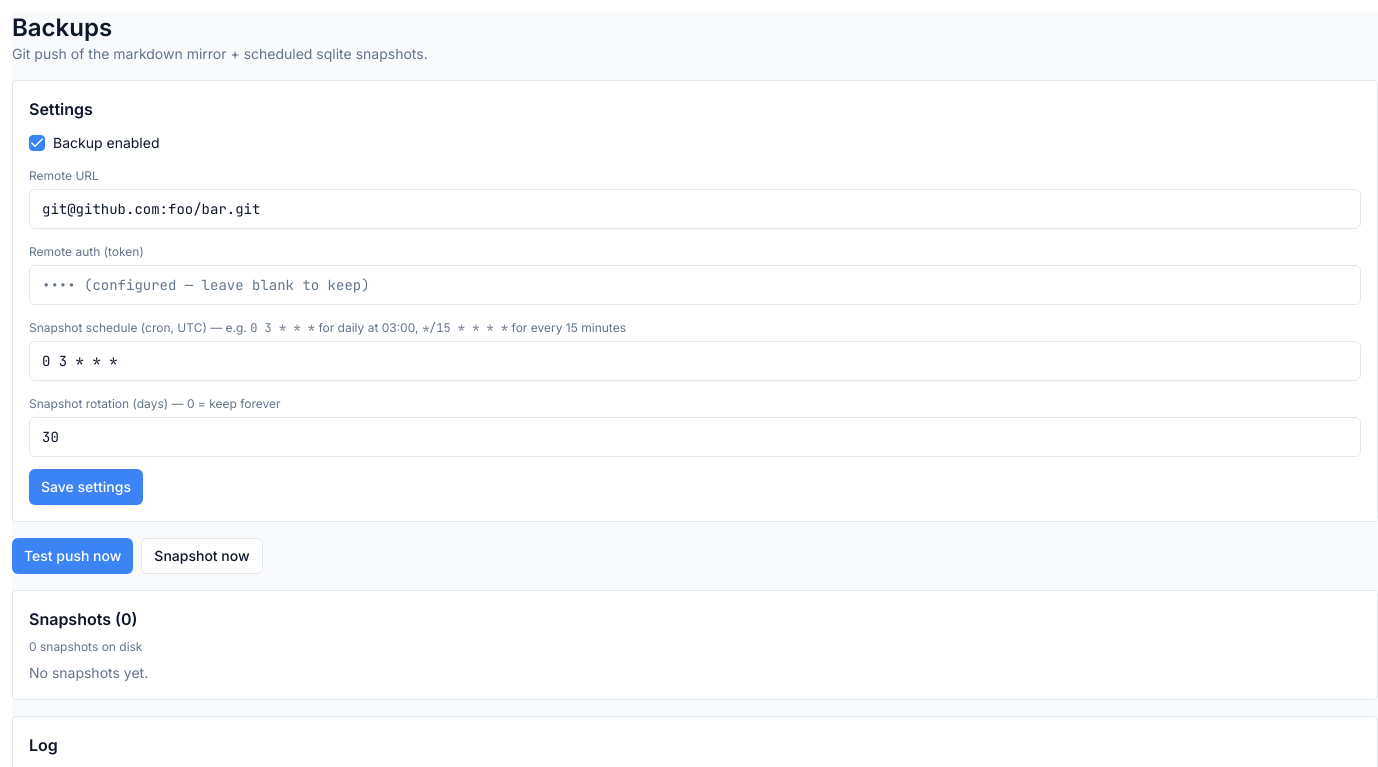
it: BackupsSettingsPage › Save settings posts a PUT and shows the success banner
Step 1. Click the button with test id "settings-save" → x=86, y=487, box [29,469,143,505]
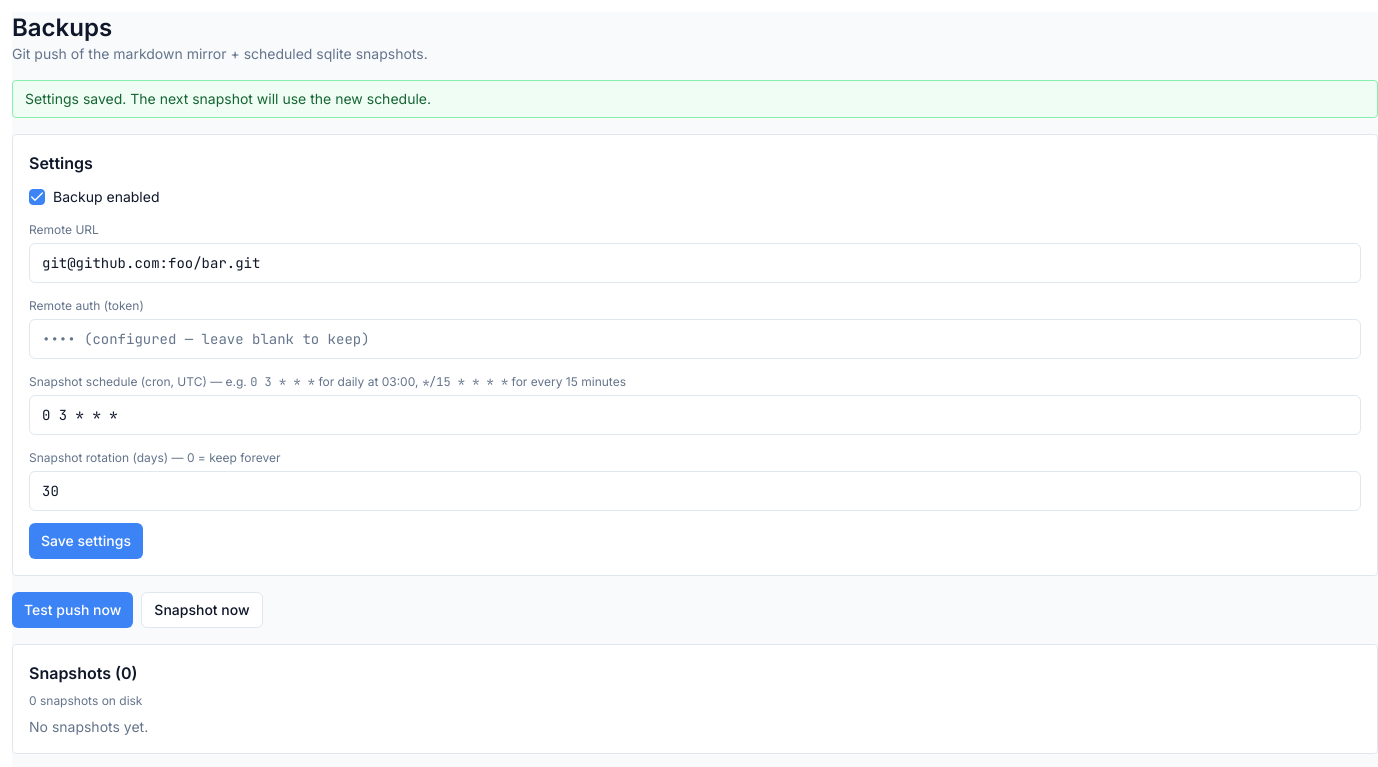
Expected: the text "Settings saved. The next snapshot will use the new schedule." is shown, [12,80,1377,118]
